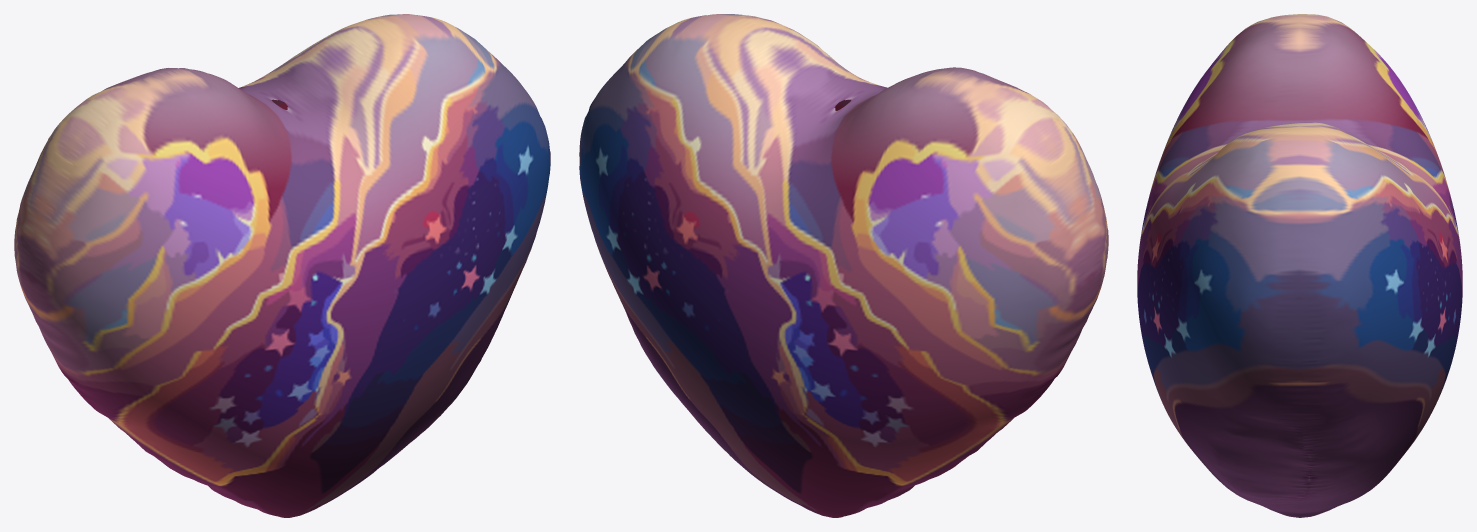
The model's file is Hearth.fbx.
The picture shows the model from 3 angles, left to right: view 1: azimuth 30°, elevation 25°; view 2: azimuth 150°, elevation 25°; view 3: azimuth 270°, elevation 25°; orthographic projection. The views are drawn at different scales.
Parts seen in each view (by area): view 1: mm_frame; view 2: mm_frame; view 3: mm_frame.
Boxes of the visible parts, x1,y1,x2,y2 form: mm_frame: [14, 14, 550, 517]; mm_frame: [579, 14, 1108, 517]; mm_frame: [1137, 14, 1462, 517].
Size of the model in its own units: 884 by 784 by 531.
